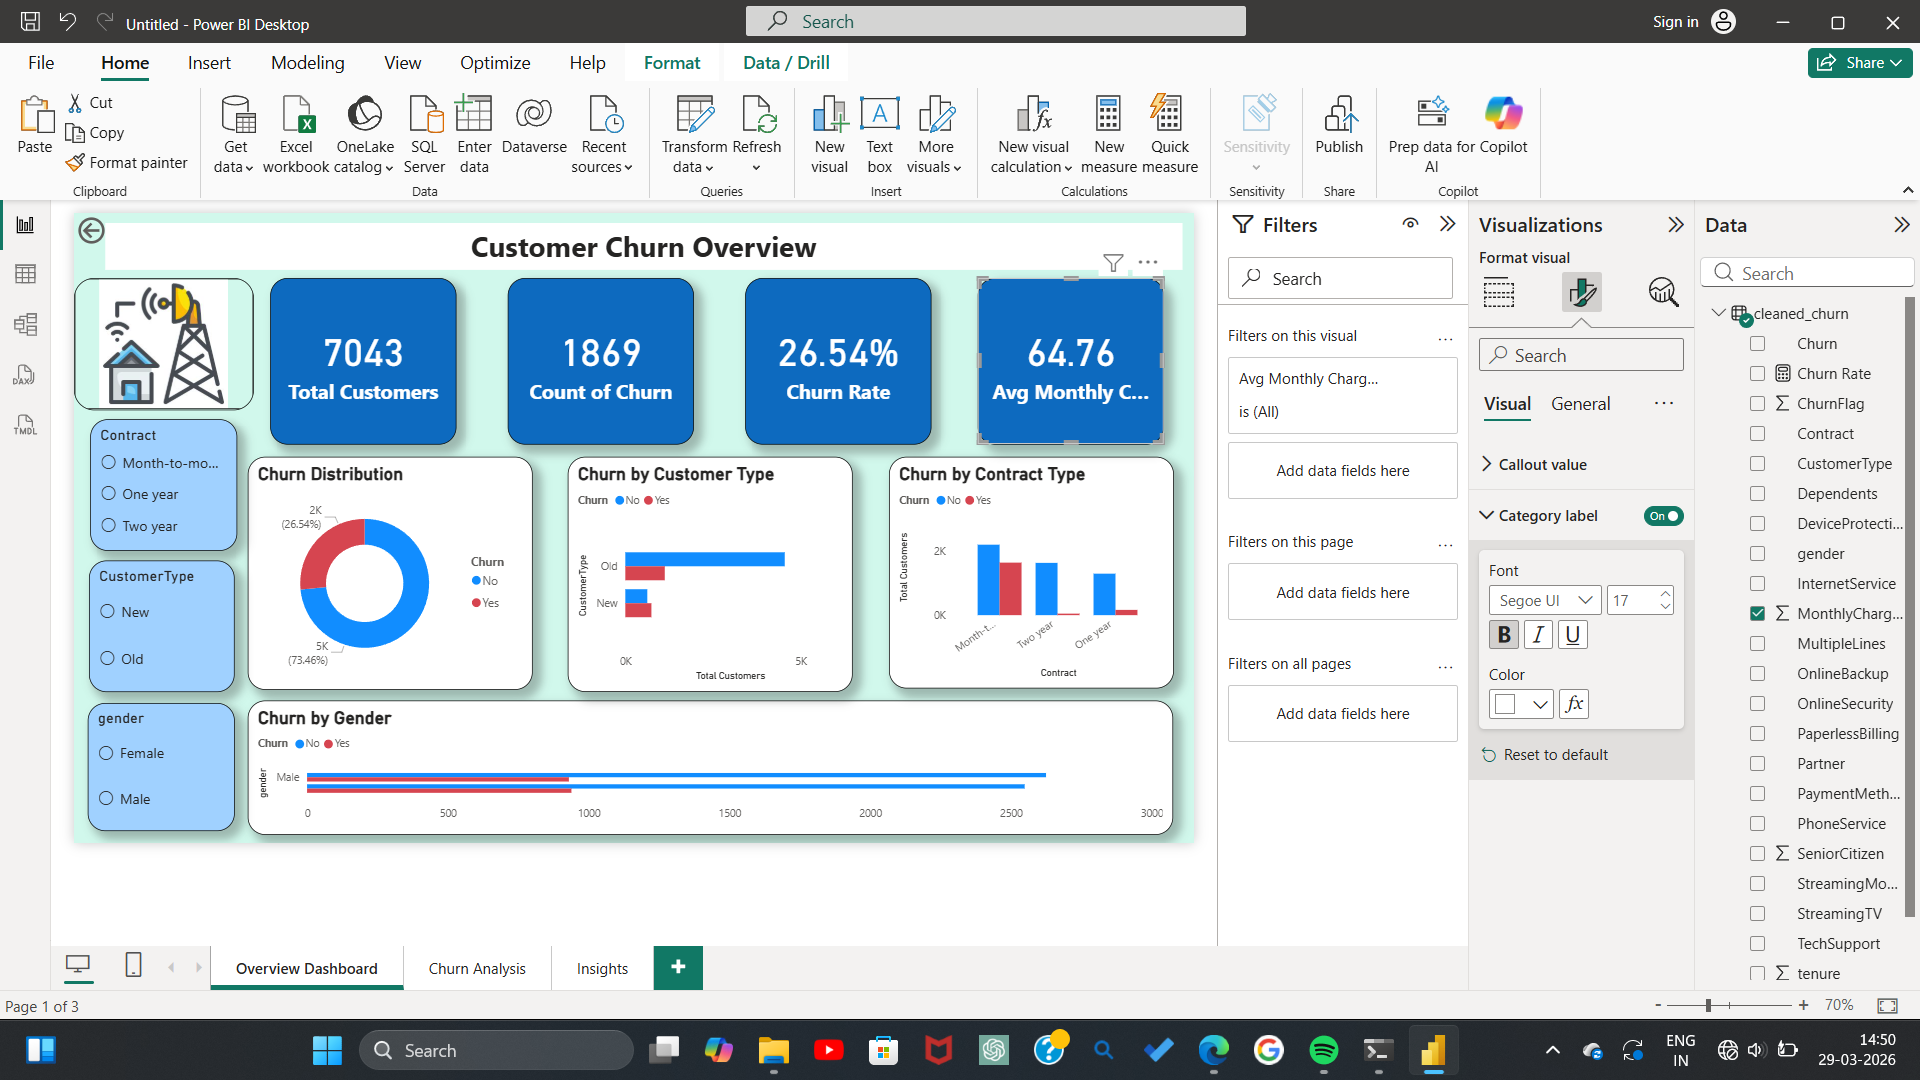

What the dashboard file says about the page in this screenshot:
{"tool":"powerbi","page":{"name":"Overview Dashboard","canvas":[1280,720],"ordinal":0},"visuals":[{"type":"card","fields":{"Values":["CountNonNull(cleaned_churn.Churn)"]},"box":[495.4,74.1,212.7,190.7],"z":0},{"type":"actionButton","box":[0,0,100,40],"z":1000},{"type":"card","fields":{"Values":["Avg(cleaned_churn.MonthlyCharges)"]},"box":[1033.3,74.1,212.7,190.7],"z":2000},{"type":"card","fields":{"Values":["cleaned_churn.Churn Rate"]},"box":[767.1,74.1,212.7,190.7],"z":3000},{"type":"card","fields":{"Values":["cleaned_churn.Total Customers"]},"box":[223.7,74.1,212.7,190.7],"z":4000},{"type":"donutChart","title":"Churn Distribution","fields":{"Category":["cleaned_churn.Churn"],"Y":["cleaned_churn.Total Customers"]},"box":[199,278.6,325.2,266.2],"z":5000},{"type":"clusteredBarChart","title":"Churn by Gender","fields":{"Series":["cleaned_churn.Churn"],"Category":["cleaned_churn.gender"],"Y":["cleaned_churn.Total Customers"]},"box":[199,557.1,1058,153.7],"z":6000},{"type":"clusteredBarChart","title":"Churn by Customer Type","fields":{"Series":["cleaned_churn.Churn"],"Category":["cleaned_churn.CustomerType"],"Y":["cleaned_churn.Total Customers"]},"box":[564,278.6,325.2,269],"z":7000},{"type":"textbox","box":[35.7,11,1230.9,53.5],"z":11000},{"type":"clusteredColumnChart","title":"Churn by Contract Type","fields":{"Category":["cleaned_churn.Contract"],"Y":["cleaned_churn.Total Customers"],"Series":["cleaned_churn.Churn"]},"box":[931.7,278.6,325.2,264.8],"z":12000},{"type":"image","box":[0,74.1,205.8,150.9],"z":13000},{"type":"listSlicer","fields":{"Values":["cleaned_churn.Contract"]},"box":[18.8,236.2,168.1,150.7],"z":13001},{"type":"listSlicer","fields":{"Values":["cleaned_churn.CustomerType"]},"box":[17.4,397.1,166.7,150.7],"z":13002},{"type":"listSlicer","fields":{"Values":["cleaned_churn.gender"]},"box":[15.9,559.4,168.1,146.4],"z":13003}]}

Visuals, with their boxes on the page's 1280x720 design canvas (x1, y1, x2, y2). These are canvas units, not pixel positions in the 1920x1080 screenshot, which may show the page scaled, cropped or inside an application window:
card - CountNonNull(cleaned_churn.Churn): {"left": 495, "top": 74, "right": 708, "bottom": 265}
actionButton: {"left": 0, "top": 0, "right": 100, "bottom": 40}
card - Avg(cleaned_churn.MonthlyCharges): {"left": 1033, "top": 74, "right": 1246, "bottom": 265}
card - cleaned_churn.Churn Rate: {"left": 767, "top": 74, "right": 980, "bottom": 265}
card - cleaned_churn.Total Customers: {"left": 224, "top": 74, "right": 436, "bottom": 265}
"Churn Distribution" donutChart: {"left": 199, "top": 279, "right": 524, "bottom": 545}
"Churn by Gender" clusteredBarChart: {"left": 199, "top": 557, "right": 1257, "bottom": 711}
"Churn by Customer Type" clusteredBarChart: {"left": 564, "top": 279, "right": 889, "bottom": 548}
textbox: {"left": 36, "top": 11, "right": 1267, "bottom": 64}
"Churn by Contract Type" clusteredColumnChart: {"left": 932, "top": 279, "right": 1257, "bottom": 543}
image: {"left": 0, "top": 74, "right": 206, "bottom": 225}
listSlicer - cleaned_churn.Contract: {"left": 19, "top": 236, "right": 187, "bottom": 387}
listSlicer - cleaned_churn.CustomerType: {"left": 17, "top": 397, "right": 184, "bottom": 548}
listSlicer - cleaned_churn.gender: {"left": 16, "top": 559, "right": 184, "bottom": 706}
